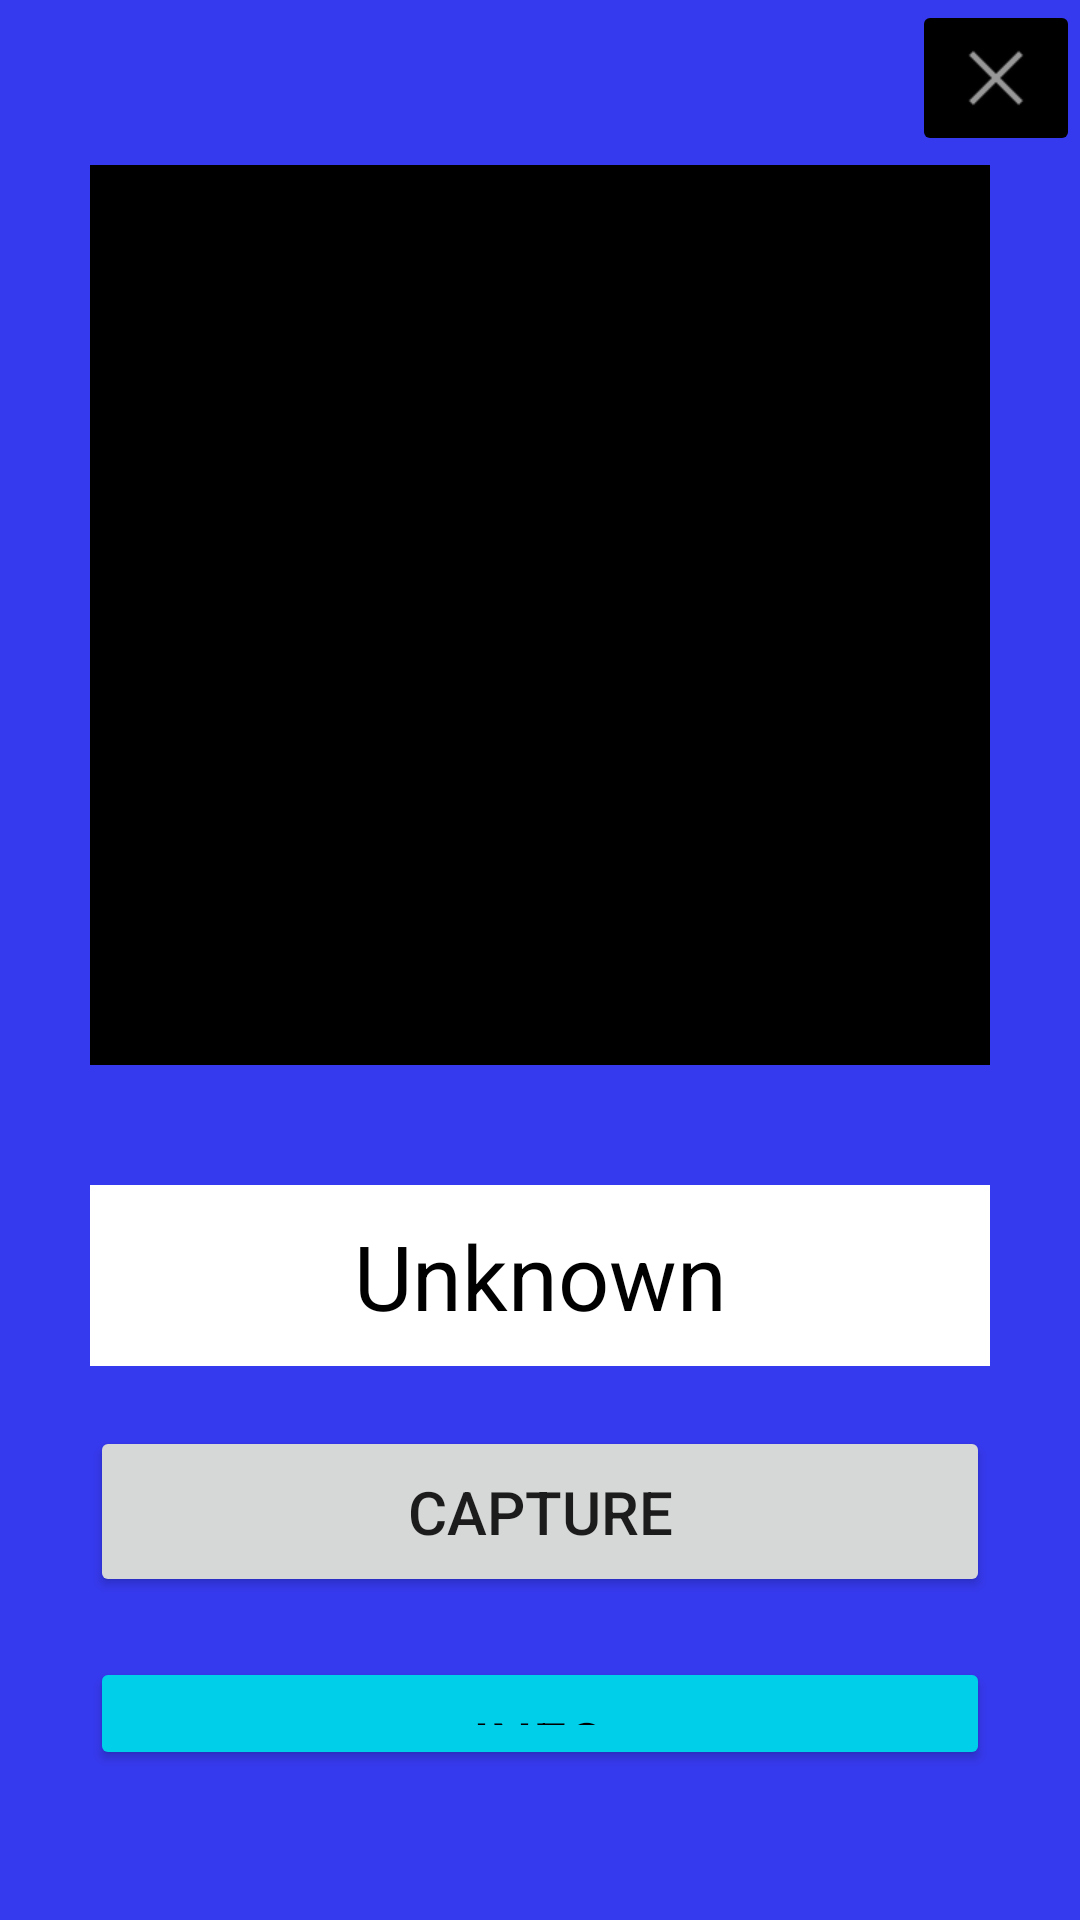

Point at icon controls on the screen. Image size 1080x1920, points as point (x, y).
close clear cancel: point (996, 78)
